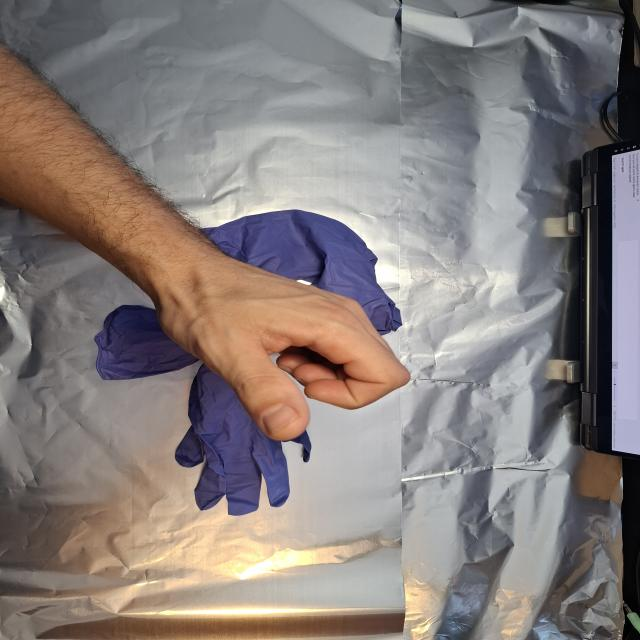glove_off: (153, 249, 413, 443)
